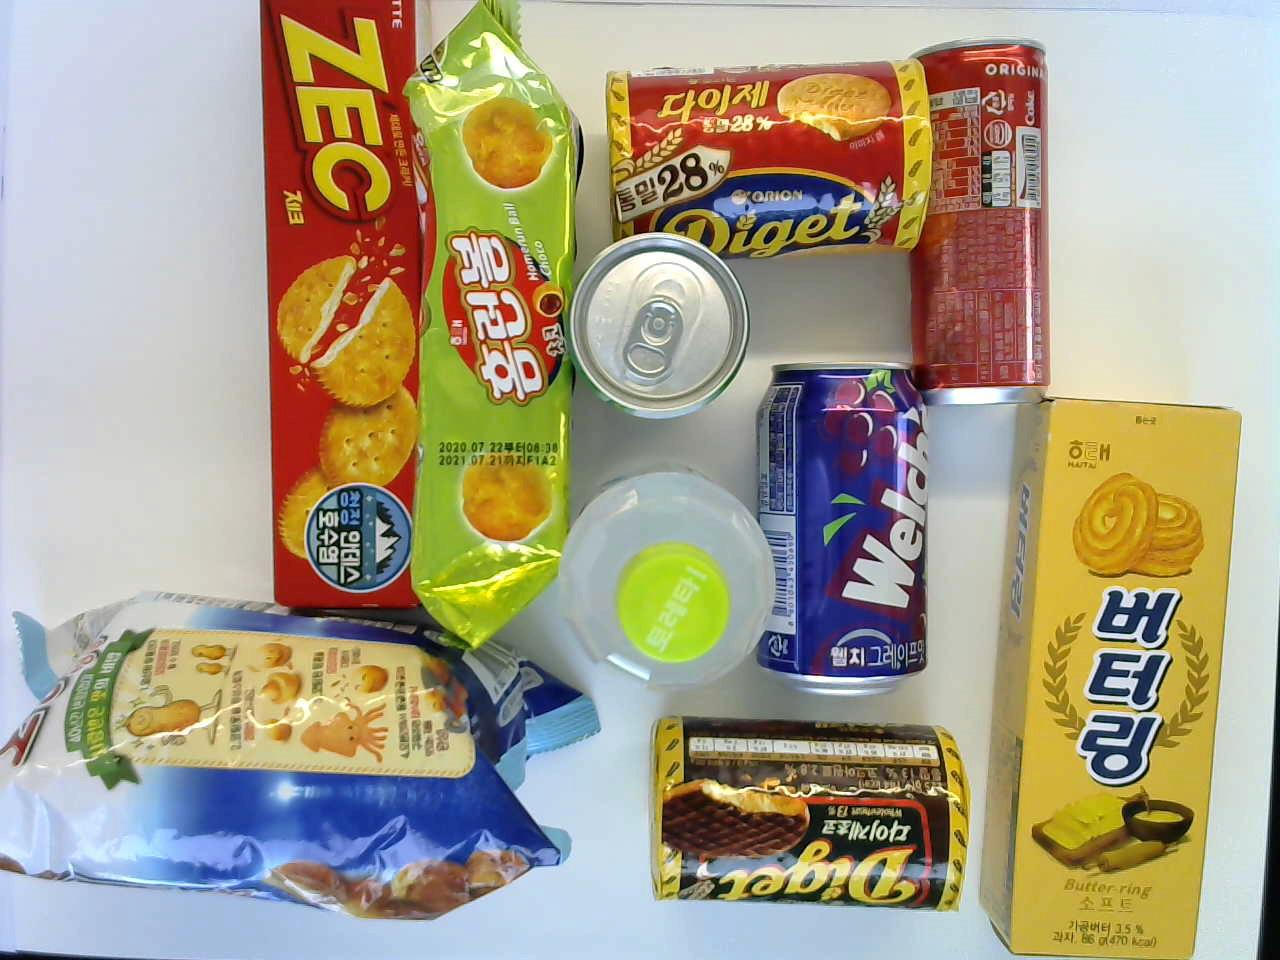buttering: (981, 388, 1247, 959)
cidar: (565, 228, 752, 422)
coke: (916, 42, 1055, 417)
diget_choco: (646, 707, 972, 917)
diget_ori: (595, 51, 930, 257)
homerunball: (419, 2, 588, 597)
squid_peanut: (0, 590, 603, 918), (258, 1, 411, 609)
toreta: (570, 469, 763, 694)
welchs: (750, 354, 931, 702)
